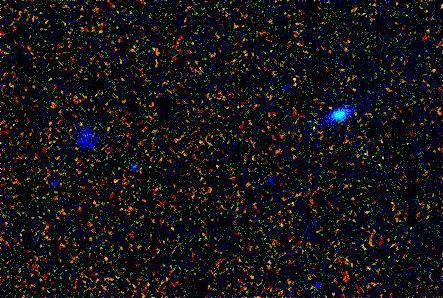star: (317, 93, 347, 123)
